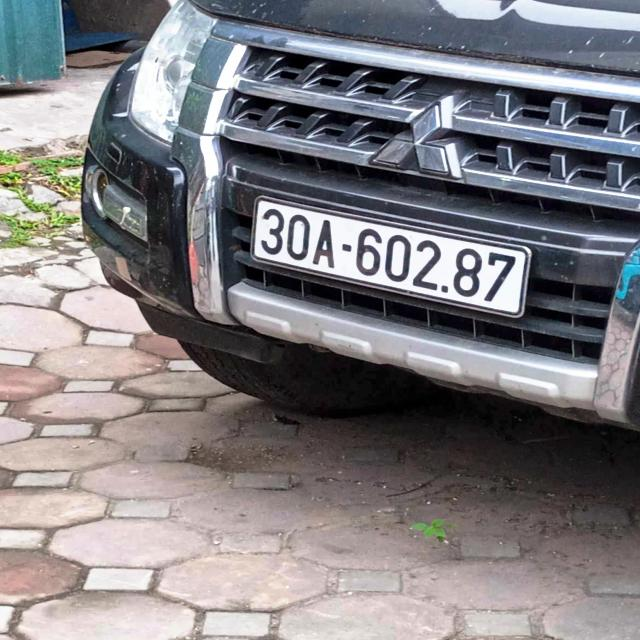license_plate: (240, 190, 547, 332)
